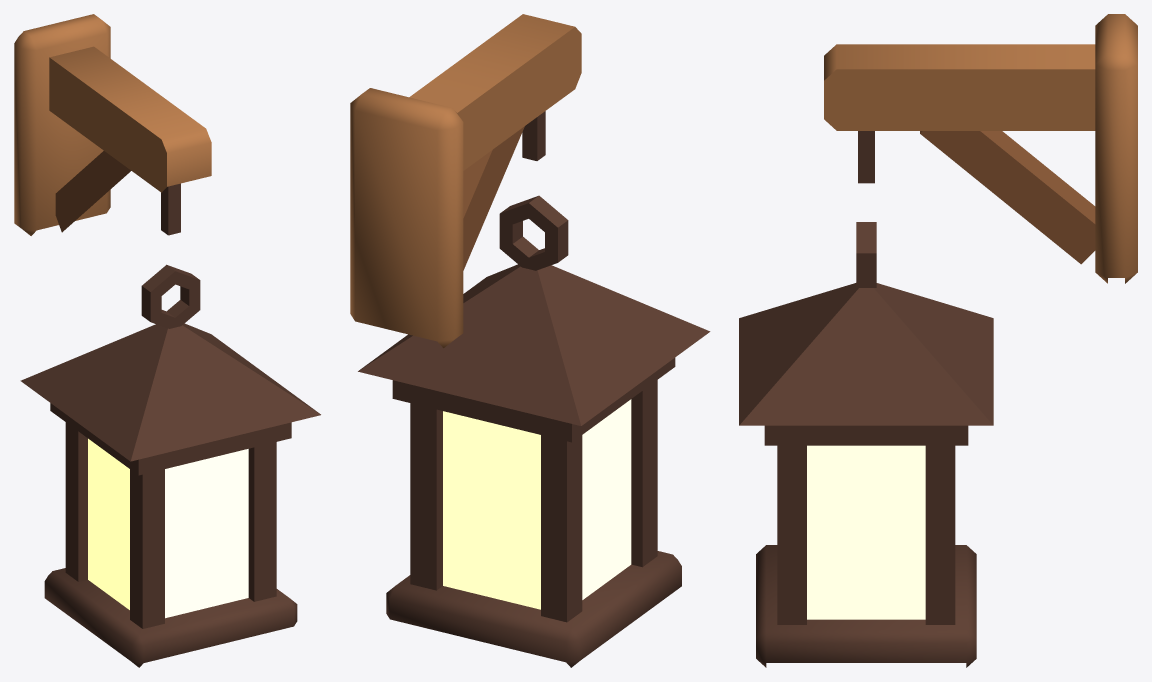
Rendered from wall_lamp.glb.
3 views of the same model, side by side, from view 1: azimuth 30°, elevation 25°; view 2: azimuth 150°, elevation 25°; view 3: azimuth 270°, elevation 25° (orthographic). The views are drawn at different scales.
Parts seen in each view (by area): view 1: wall_lamp; view 2: wall_lamp; view 3: wall_lamp.
Part boxes in pixels (box(x1,y1,x2,y2)): wall_lamp: box(14, 14, 320, 667); wall_lamp: box(350, 14, 710, 667); wall_lamp: box(739, 14, 1137, 667).
Size of the model in its own units: 0.3 by 0.77 by 0.47.
Materials: 2 (2 with a texture image).
